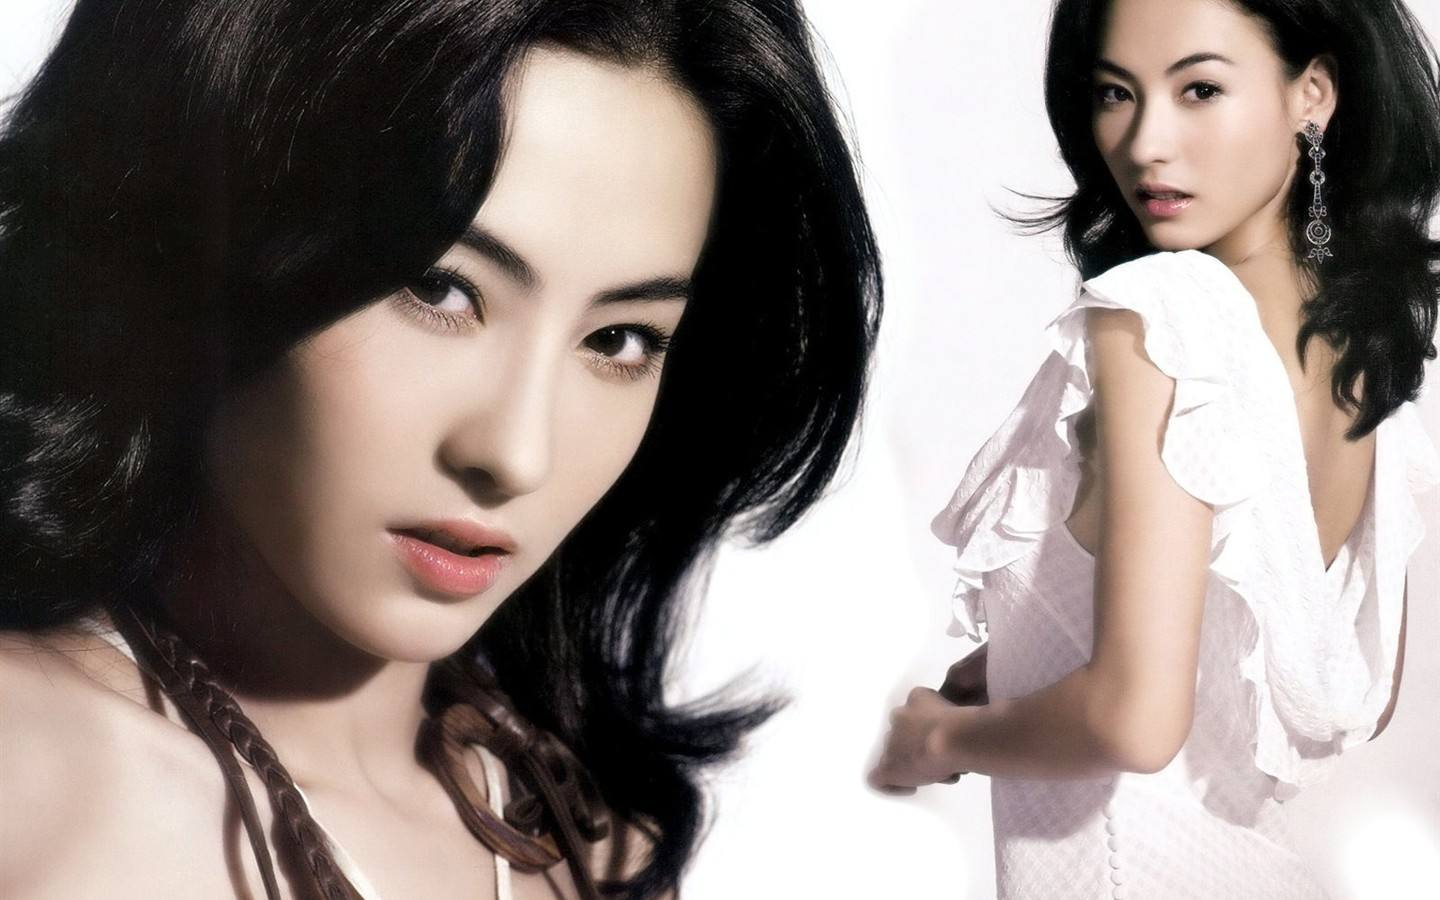person: (24, 13, 938, 900), (1008, 1, 1416, 864)
